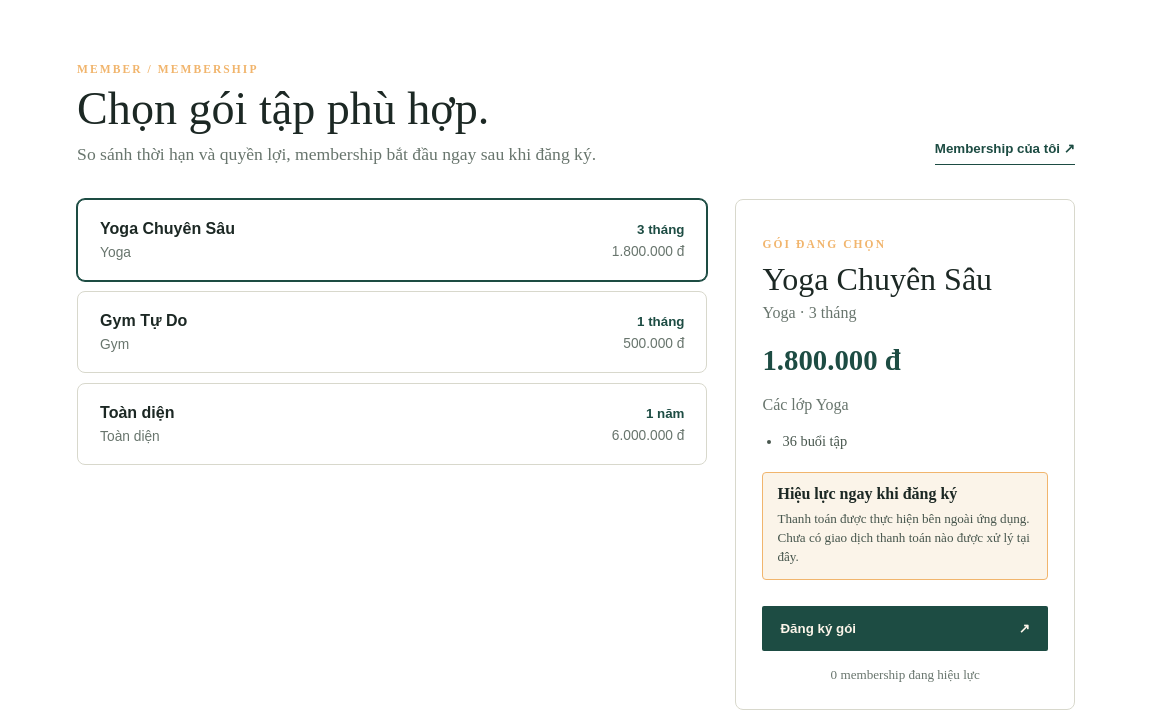
Test: membership purchase and history screens › shows stable conflict feedback from server
Expected: the button "Yoga Chuyên Sâu Yoga 3 tháng 1.800.000 đ" is shown, [77,199,707,281]
Click the button "Đăng ký gói ↗" at (818, 628), box [762,606,1048,650]
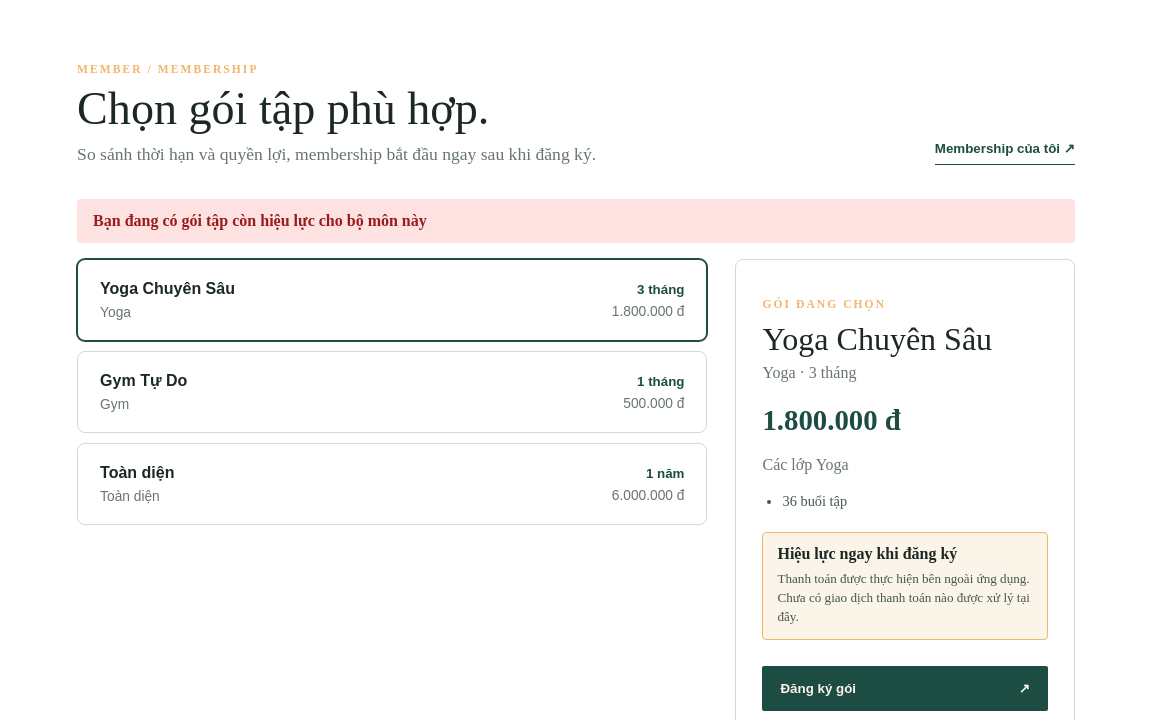
Expected: the message reads "Bạn đang có gói tập còn hiệu lực cho bộ môn này", [93,212,427,229]
